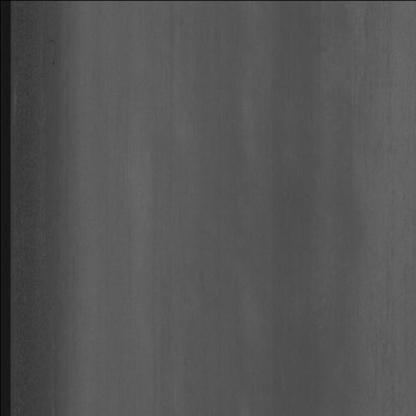silk_spot: (347, 12, 406, 400)
